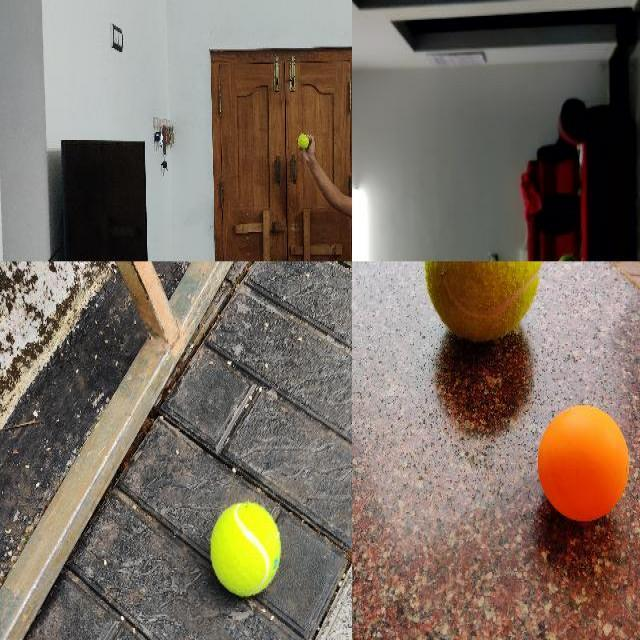tennis-ball: (424, 261, 542, 343), (210, 501, 283, 599), (298, 134, 309, 148), (556, 253, 580, 259)
